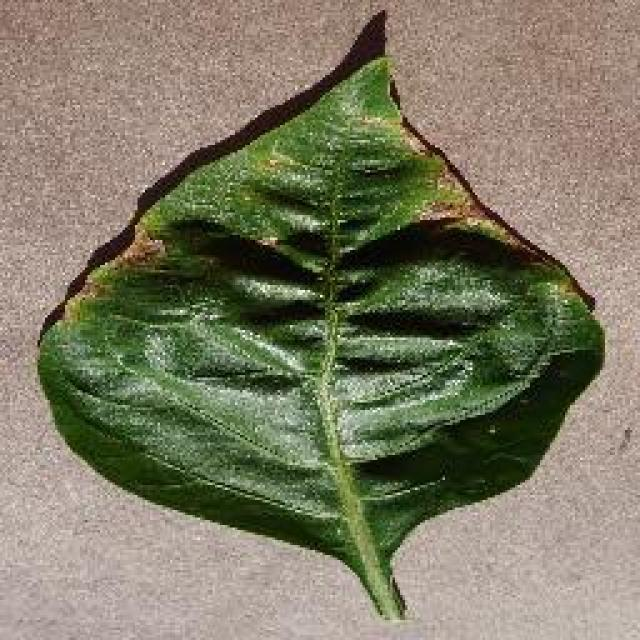Chilli_Bacterial_Spot: (32, 20, 608, 622), (115, 222, 167, 270)
